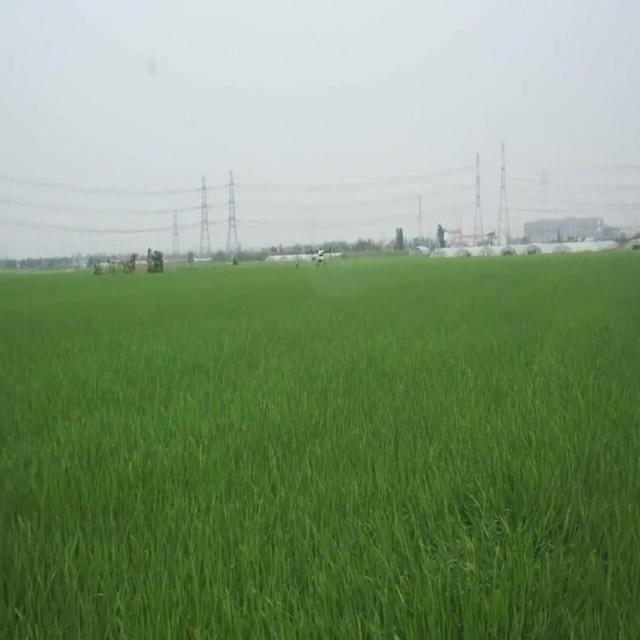UAV: (306, 247, 340, 266)
